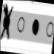correct: (30, 17, 40, 38)
no answer: (16, 16, 26, 34), (45, 20, 54, 39)
not correct: (0, 2, 14, 43)
